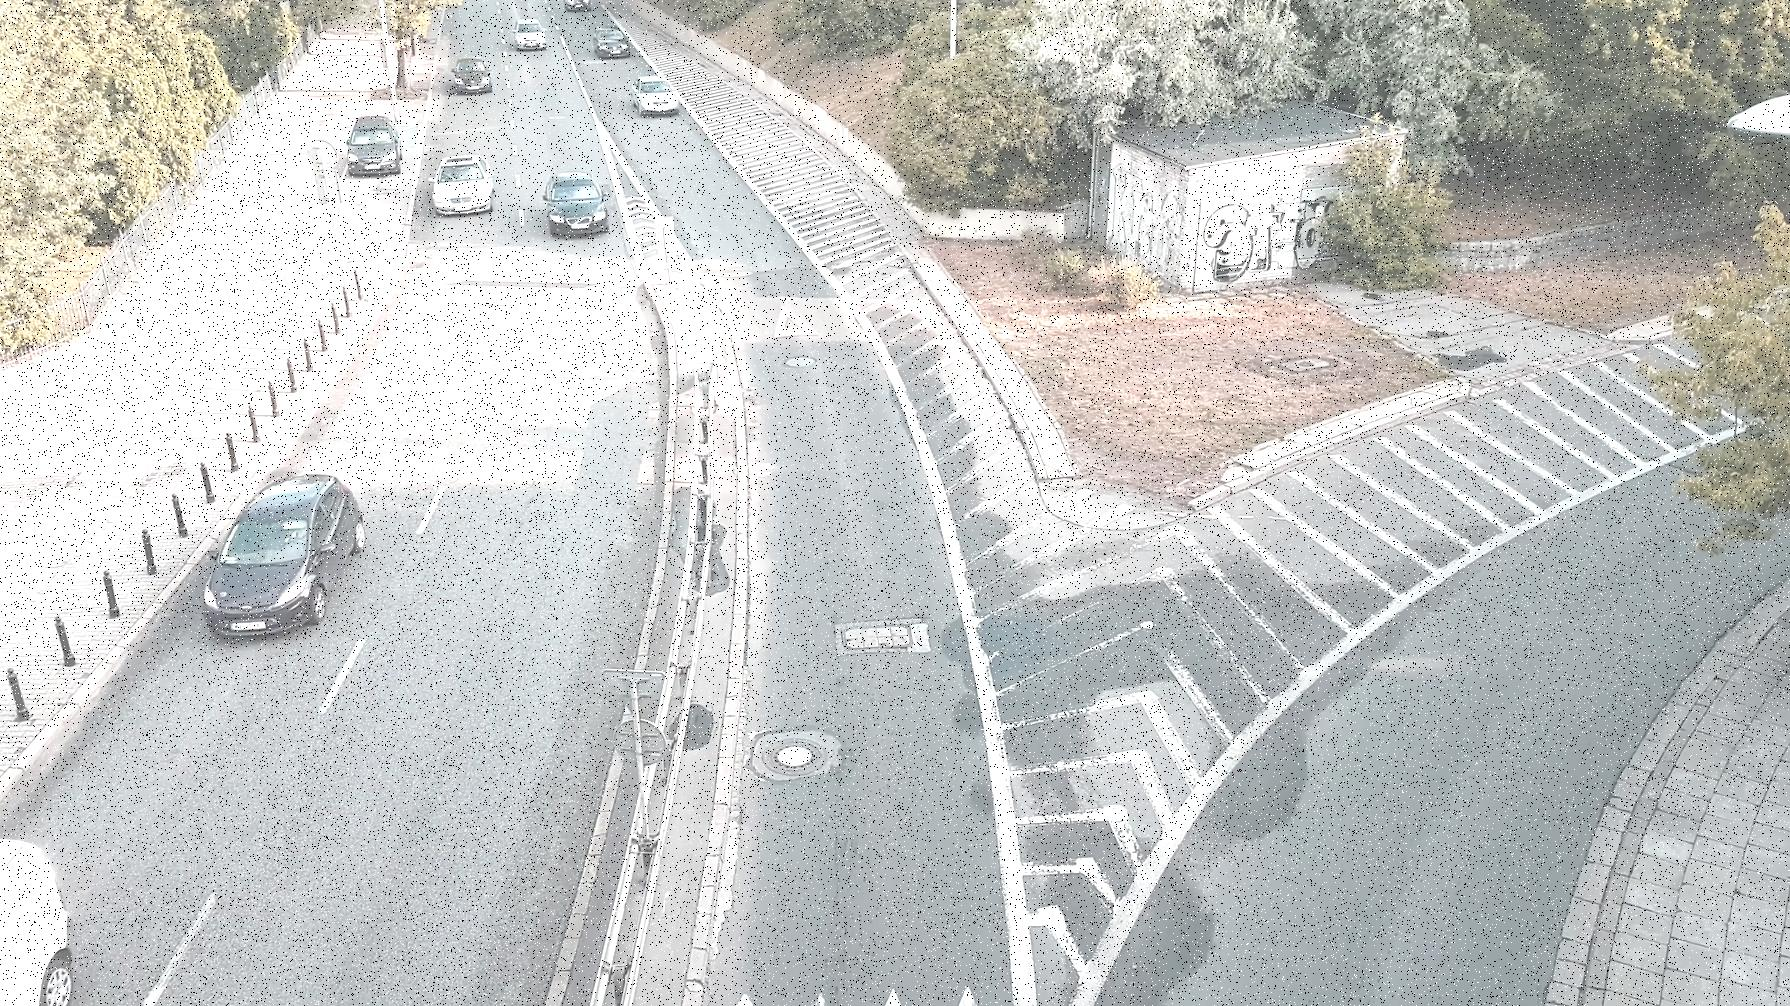car: (183, 467, 378, 654), (0, 818, 101, 1006), (537, 165, 618, 245), (346, 104, 405, 182), (429, 148, 492, 221), (629, 65, 679, 122), (446, 50, 494, 96), (589, 19, 633, 65), (507, 15, 552, 58)
